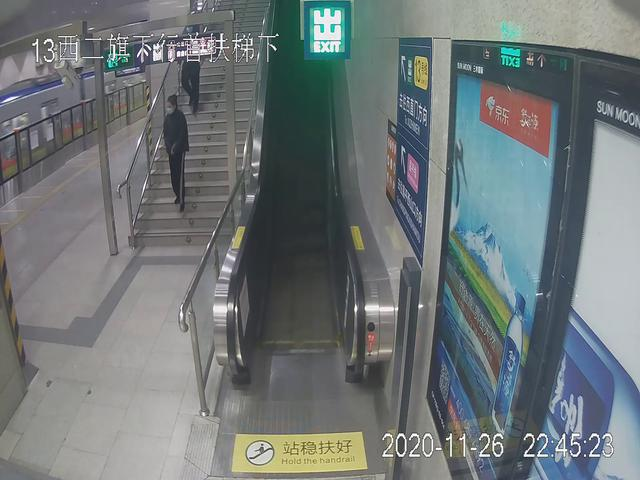person: (159, 92, 198, 214), (173, 26, 206, 109)
